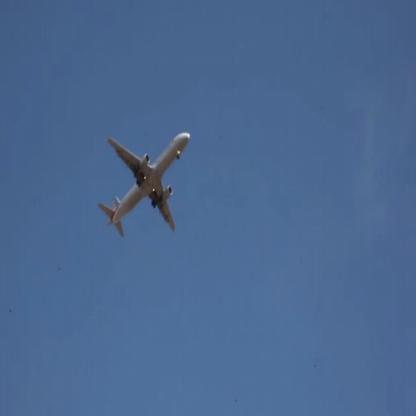CIV_Plane: (99, 127, 193, 238)
